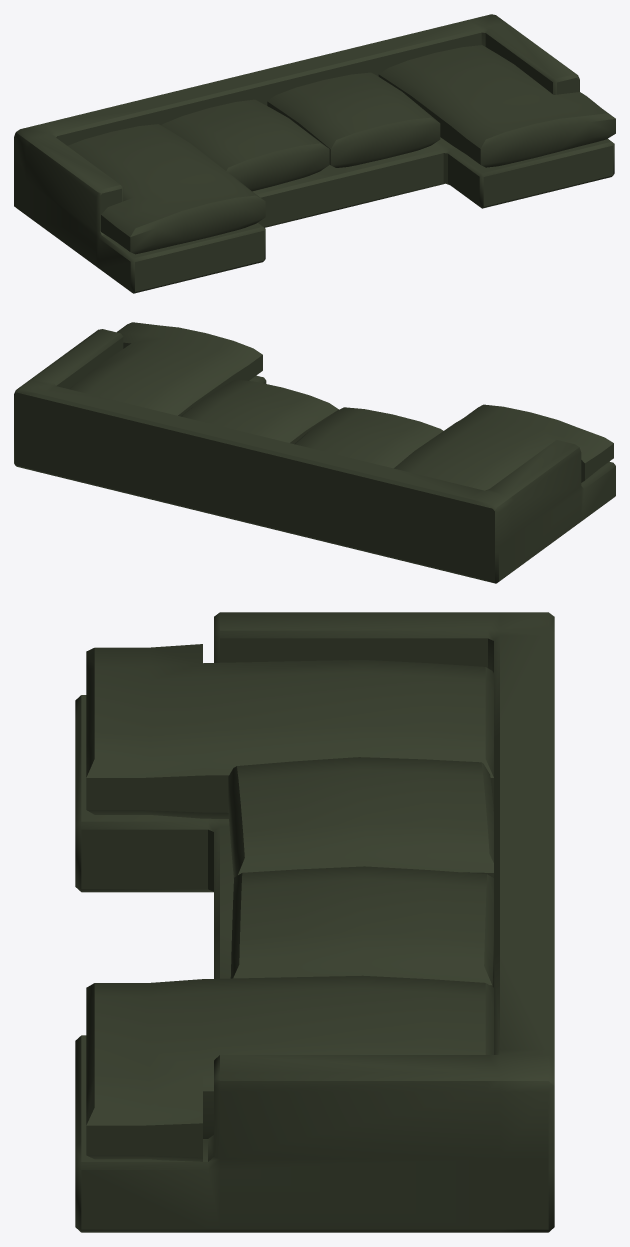
File: Couch_Large3.glb
3 renders of one model, top to bottom at view 1: azimuth 30°, elevation 25°; view 2: azimuth 150°, elevation 25°; view 3: azimuth 270°, elevation 25°, orthographic. The views are drawn at different scales.
Visible parts, largest first — view 1: Couch_Large3; view 2: Couch_Large3; view 3: Couch_Large3.
Part boxes in pixels (x1=…): Couch_Large3: x1=14, y1=14, x2=615, y2=293; Couch_Large3: x1=14, y1=322, x2=615, y2=583; Couch_Large3: x1=75, y1=612, x2=554, y2=1232.
Size of the model in its own units: 3.46 by 0.5322 by 1.48.
1 material, 1 textured.
